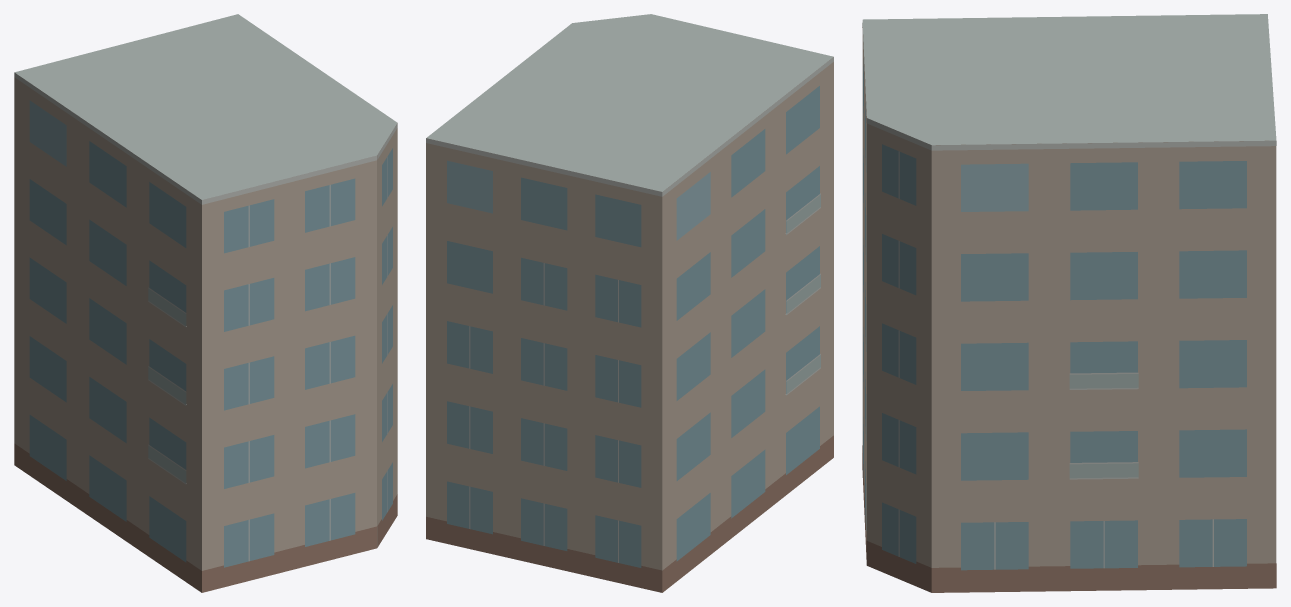
Rendered from survey-upis-32767992.glb.
The picture shows the model from 3 angles, left to right: view 1: azimuth 30°, elevation 25°; view 2: azimuth 150°, elevation 25°; view 3: azimuth 270°, elevation 25°; orthographic projection. The views are drawn at different scales.
Parts seen in each view (by area): view 1: survey-upis-32767992.tmp; view 2: survey-upis-32767992.tmp; view 3: survey-upis-32767992.tmp.
Part boxes in pixels (x1=…): survey-upis-32767992.tmp: x1=14, y1=14, x2=397, y2=592; survey-upis-32767992.tmp: x1=426, y1=14, x2=833, y2=592; survey-upis-32767992.tmp: x1=862, y1=14, x2=1276, y2=592.
Size of the model in its own units: 12.61 by 20.05 by 16.81.
